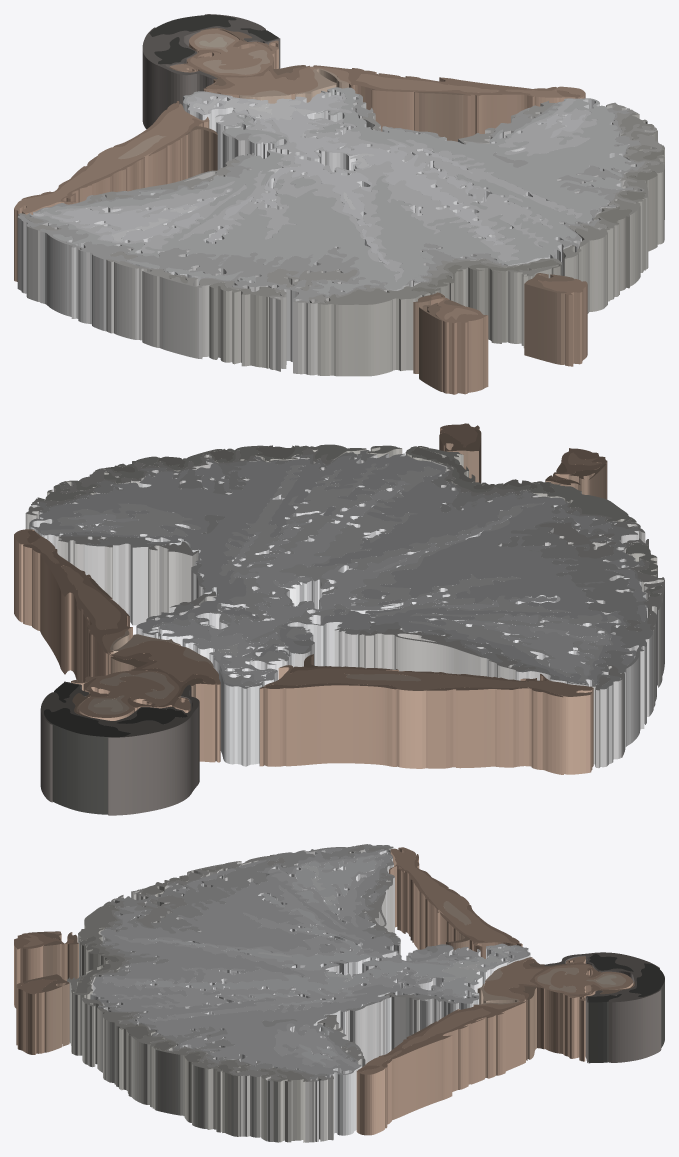
File: avatar.glb
3 renders of one model, top to bottom at view 1: azimuth 30°, elevation 25°; view 2: azimuth 150°, elevation 25°; view 3: azimuth 270°, elevation 25°, orthographic. The views are drawn at different scales.
Visible parts, largest first — view 1: Node1, Node25, Node80, Node55, Node43, Node12, Node81, Node89, Node82, Node13, Node130, Node90 (+43 smaller); view 2: Node1, Node93, Node94, Node130, Node25, Node43, Node73, Node89, Node12, Node13, Node127, Node54 (+37 smaller); view 3: Node1, Node89, Node81, Node43, Node130, Node12, Node25, Node74, Node13, Node56, Node95, Node73 (+41 smaller).
Part boxes in pixels (bbox=[...]): Node1: bbox=[29, 87, 631, 295]; Node25: bbox=[40, 224, 388, 361]; Node80: bbox=[317, 259, 517, 376]; Node55: bbox=[106, 259, 244, 358]; Node43: bbox=[234, 109, 503, 245]; Node12: bbox=[304, 118, 582, 261]; Node81: bbox=[575, 145, 664, 313]; Node89: bbox=[313, 65, 556, 137]; Node82: bbox=[209, 282, 280, 368]; Node13: bbox=[273, 161, 468, 281]; Node130: bbox=[142, 14, 280, 129]; Node90: bbox=[431, 295, 488, 394]; Node1: bbox=[29, 453, 636, 686]; Node93: bbox=[259, 683, 397, 766]; Node94: bbox=[426, 687, 563, 774]; Node130: bbox=[40, 681, 199, 815]; Node25: bbox=[511, 502, 653, 749]; Node43: bbox=[214, 481, 447, 664]; Node73: bbox=[264, 665, 593, 774]; Node89: bbox=[23, 544, 132, 682]; Node12: bbox=[210, 463, 441, 629]; Node13: bbox=[279, 503, 543, 609]; Node127: bbox=[44, 708, 130, 814]; Node54: bbox=[358, 628, 486, 676]; Node1: bbox=[90, 848, 479, 1135]; Node89: bbox=[378, 1001, 525, 1128]; Node81: bbox=[97, 1007, 250, 1136]; Node43: bbox=[134, 926, 481, 1000]; Node130: bbox=[544, 952, 661, 1062]; Node12: bbox=[101, 968, 435, 1022]; Node25: bbox=[104, 846, 361, 933]; Node74: bbox=[534, 964, 633, 1061]; Node13: bbox=[115, 935, 352, 985]; Node56: bbox=[230, 1065, 315, 1142]; Node95: bbox=[389, 865, 438, 949]; Node73: bbox=[390, 847, 516, 958].
Bounding box in the file's own units: 3.31 × 0.3937 × 3.82.
